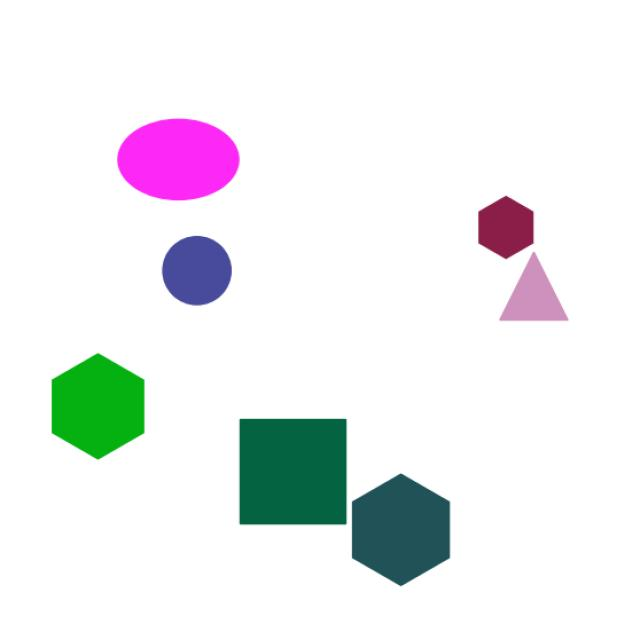Circle: (149, 229, 248, 313)
Hexagon: (36, 342, 159, 481), (341, 471, 469, 588), (453, 179, 551, 279)
Oval: (102, 122, 252, 206)
Triangle: (489, 232, 602, 346)
square: (216, 403, 360, 542)
